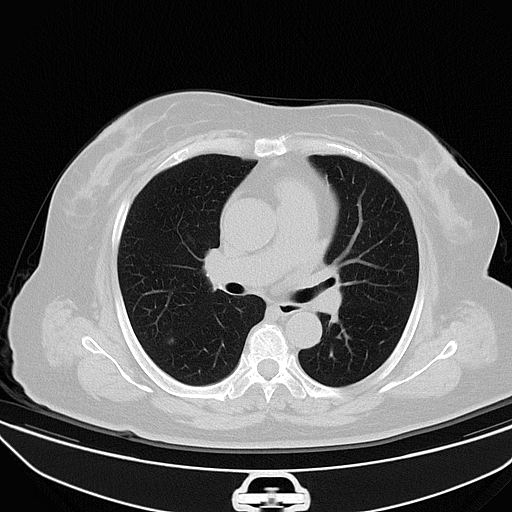nodule: (166, 337, 175, 345)
